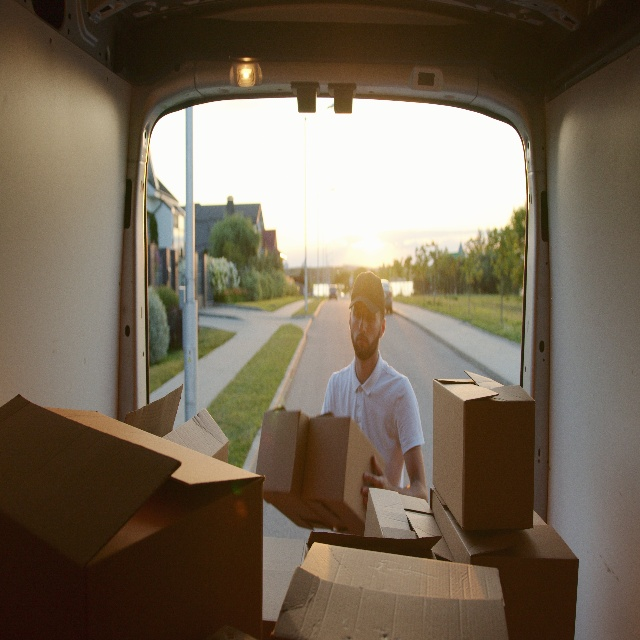Sin_guantes: (359, 452, 390, 508)
